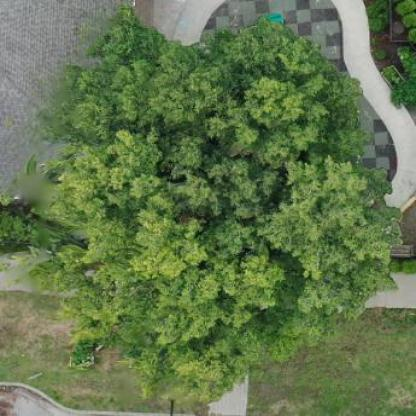Deciduous Tree: (15, 9, 416, 407)
